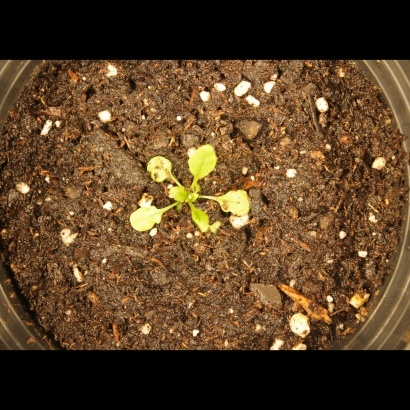leaf: (180, 143, 230, 182), (212, 188, 262, 219), (141, 151, 180, 186), (125, 202, 162, 238), (187, 203, 215, 235), (167, 184, 190, 207), (187, 181, 210, 204)
